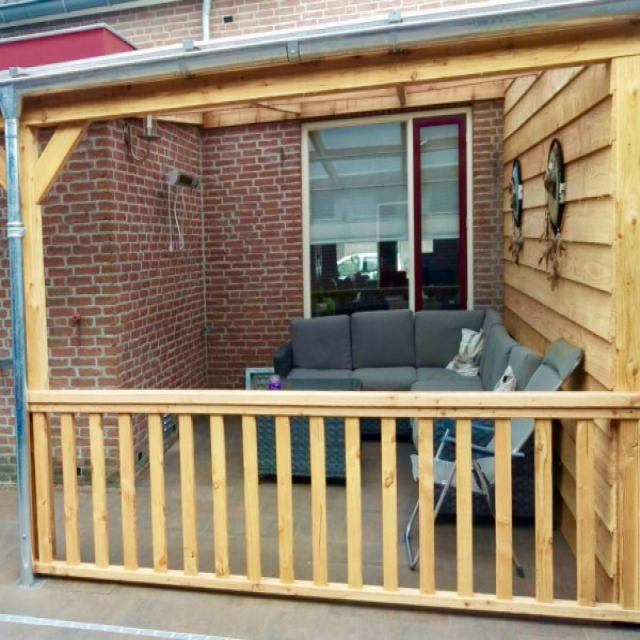fence line: (46, 376, 639, 621)
